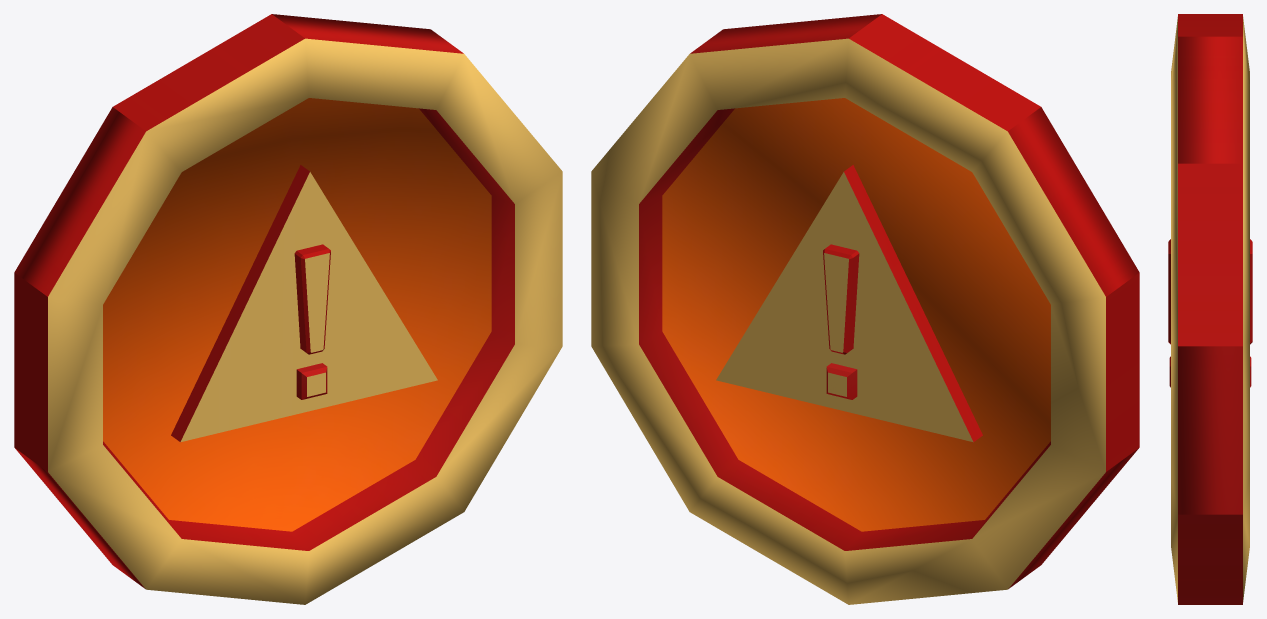
File: SM_Coin01.fbx
3 views of the same model, side by side, from view 1: azimuth 30°, elevation 25°; view 2: azimuth 150°, elevation 25°; view 3: azimuth 270°, elevation 25° (orthographic). The views are drawn at different scales.
Parts seen in each view (by area): view 1: SM_MonedaHP01; view 2: SM_MonedaHP01; view 3: SM_MonedaHP01.
Part boxes in pixels (x1,y1,x2,y2): SM_MonedaHP01: (14,14,562,604); SM_MonedaHP01: (591,14,1139,604); SM_MonedaHP01: (1168,14,1252,604).
Size of the model in its own units: 23.77 by 25 by 3.5.
Materials: 1 (1 with a texture image).
